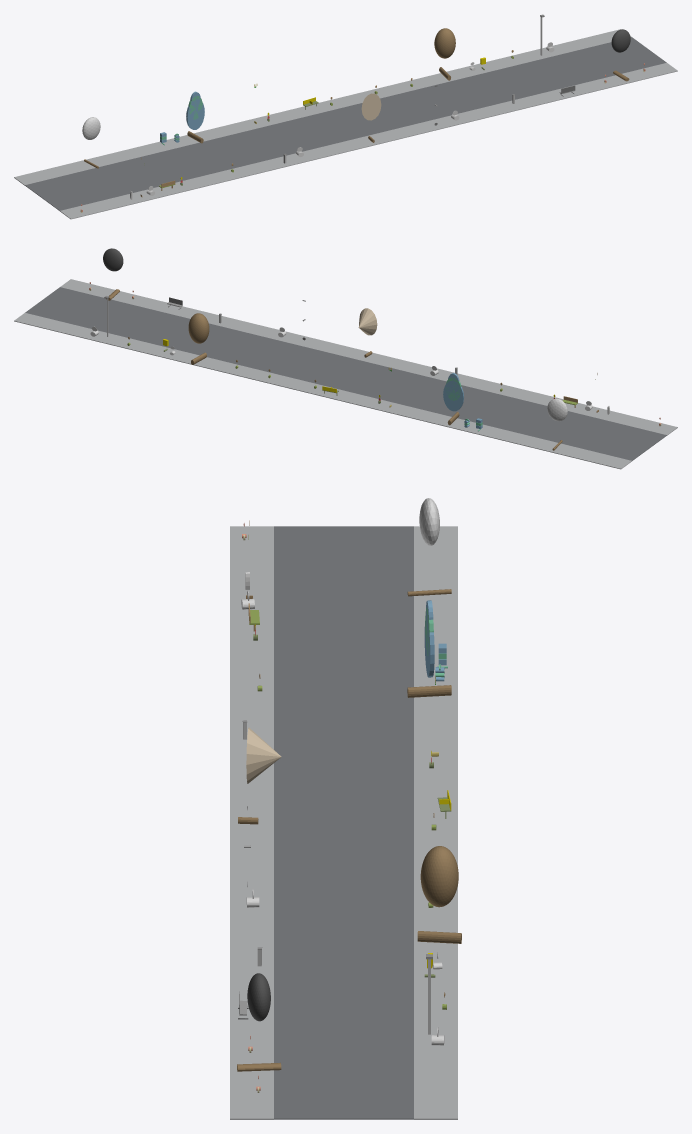
3 views of the same model, one above another, from view 1: azimuth 30°, elevation 25°; view 2: azimuth 150°, elevation 25°; view 3: azimuth 270°, elevation 25° (orthographic). The views are drawn at different scales.
Parts seen in each view (by area): view 1: road_slab, sidewalk_left, sidewalk_right, inst_0013, inst_0015, inst_0014, inst_0016, inst_0012; view 2: road_slab, sidewalk_right, sidewalk_left, inst_0013, inst_0015, inst_0016, inst_0014, inst_0012; view 3: road_slab, sidewalk_left, sidewalk_right, inst_0015, inst_0016, inst_0014, inst_0013, inst_0012.
Boxes of the visible parts, x1,y1,x2,y2 form: road_slab: (25, 37, 666, 210); sidewalk_left: (60, 63, 677, 219); sidewalk_right: (14, 29, 631, 185); inst_0013: (186, 91, 204, 143); inst_0015: (434, 28, 455, 80); inst_0014: (361, 93, 381, 142); inst_0016: (611, 29, 630, 81); inst_0012: (82, 117, 100, 168); road_slab: (25, 287, 666, 460); sidewalk_right: (14, 313, 631, 469); sidewalk_left: (60, 279, 677, 435); inst_0013: (443, 373, 463, 425); inst_0015: (188, 313, 209, 364); inst_0016: (103, 248, 123, 300); inst_0014: (358, 308, 377, 357); inst_0012: (547, 398, 567, 450); road_slab: (274, 526, 413, 1119); sidewalk_left: (230, 526, 273, 1119); sidewalk_right: (414, 526, 457, 1119); inst_0015: (417, 846, 461, 943); inst_0016: (237, 973, 281, 1071); inst_0014: (238, 727, 281, 824); inst_0013: (407, 600, 451, 697); inst_0012: (407, 498, 451, 596).
Bounding box in the file's own units: 80 × 6.08 × 13.23.
